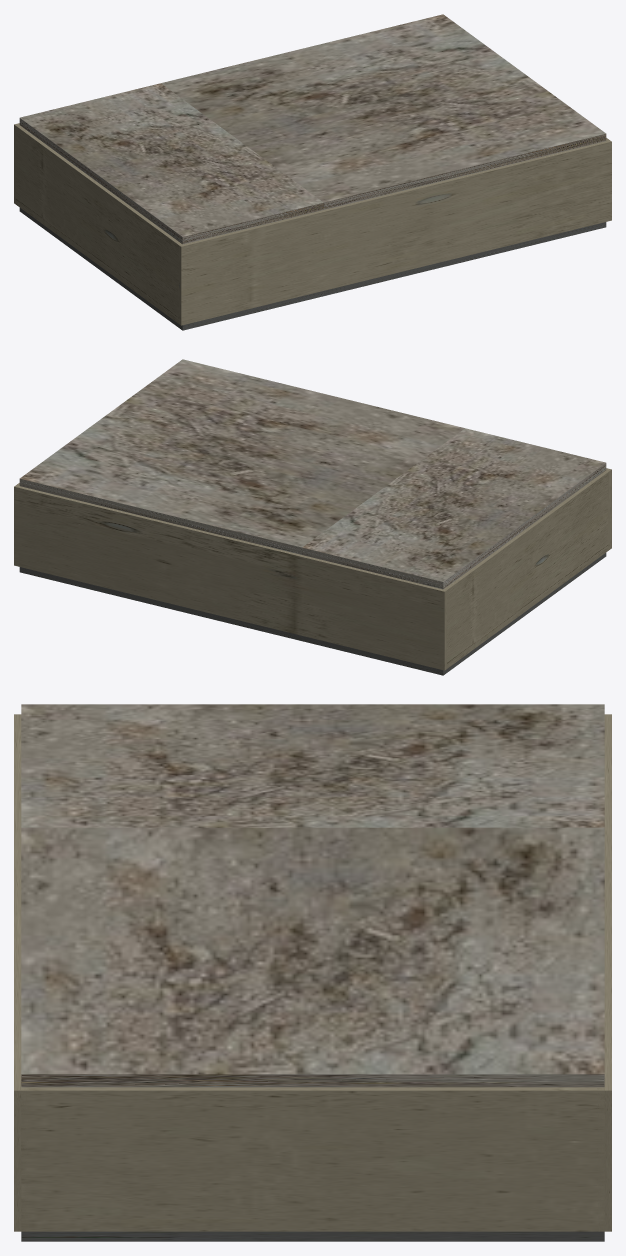
File: slice.glb
3 views of the same model, one above another, from view 1: azimuth 30°, elevation 25°; view 2: azimuth 150°, elevation 25°; view 3: azimuth 270°, elevation 25° (orthographic). The views are drawn at different scales.
Visible parts, largest first — view 1: Ceiling_B, Wall_N, Ceiling_A, Wall_W, Floor_B, Floor_A; view 2: Ceiling_B, Wall_S, Ceiling_A, Wall_W, Floor_B, Floor_A; view 3: Ceiling_B, Wall_E, Ceiling_A, Floor_B, Wall_S, Wall_N.
Boxes of the visible parts, <box> form: Ceiling_B: <box>161,14,606,209</box>; Wall_N: <box>177,140,611,325</box>; Ceiling_A: <box>19,83,323,244</box>; Wall_W: <box>16,125,181,323</box>; Floor_B: <box>324,222,606,295</box>; Floor_A: <box>19,208,323,330</box>; Ceiling_B: <box>19,359,464,554</box>; Wall_S: <box>14,485,448,670</box>; Ceiling_A: <box>302,428,606,589</box>; Wall_W: <box>444,470,609,668</box>; Floor_B: <box>19,567,301,640</box>; Floor_A: <box>302,553,606,675</box>; Ceiling_B: <box>21,827,604,1087</box>; Wall_E: <box>21,1087,604,1231</box>; Ceiling_A: <box>21,704,604,827</box>; Floor_B: <box>21,1231,604,1241</box>; Wall_S: <box>597,714,611,1231</box>; Wall_N: <box>14,714,28,1231</box>.
Size of the model in its own units: 18.3 by 3.8 by 12.3.
Materials: 4 (4 with a texture image).
